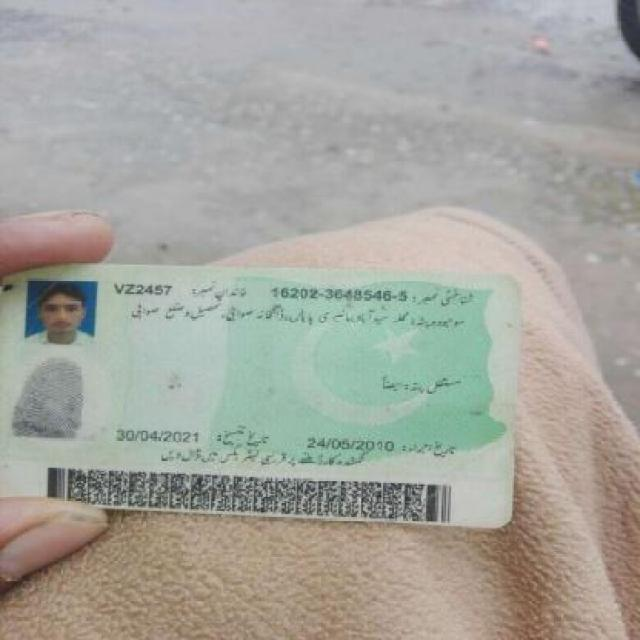Back: (6, 260, 522, 529)
